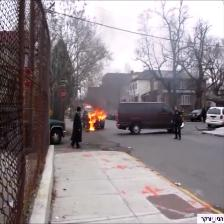fire: (84, 104, 111, 140)
